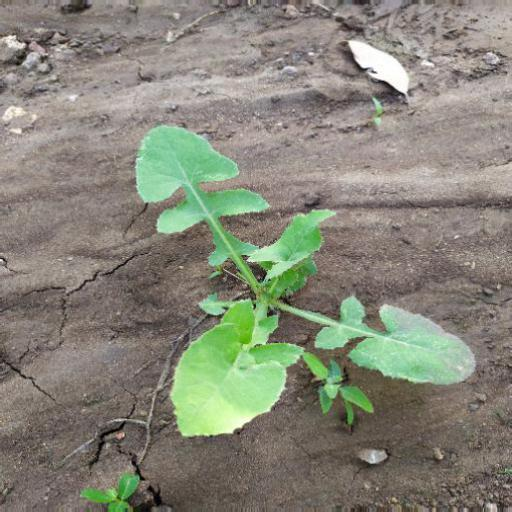weed: (121, 111, 484, 442)
